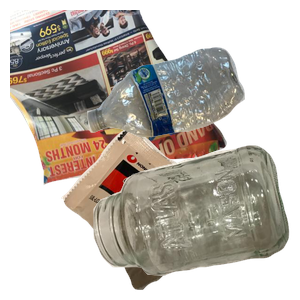glass: (91, 143, 300, 300)
paper: (10, 10, 230, 188)
plastic: (85, 45, 300, 175)
trash: (59, 124, 273, 300)
